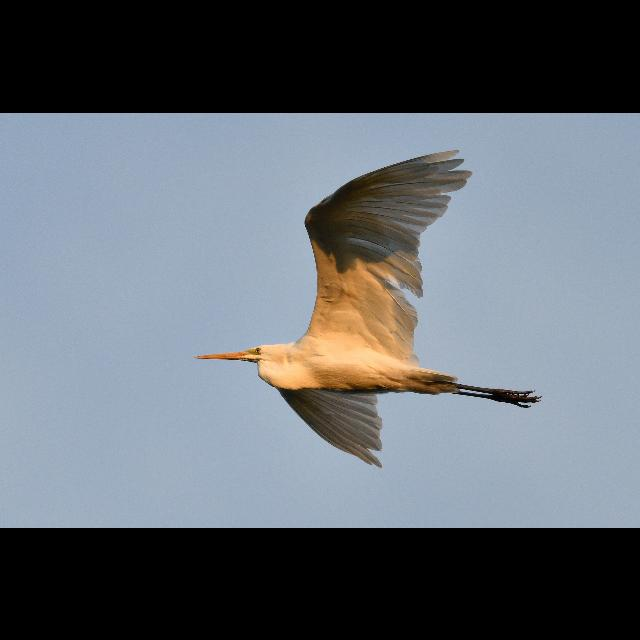heron: (191, 152, 541, 462)
